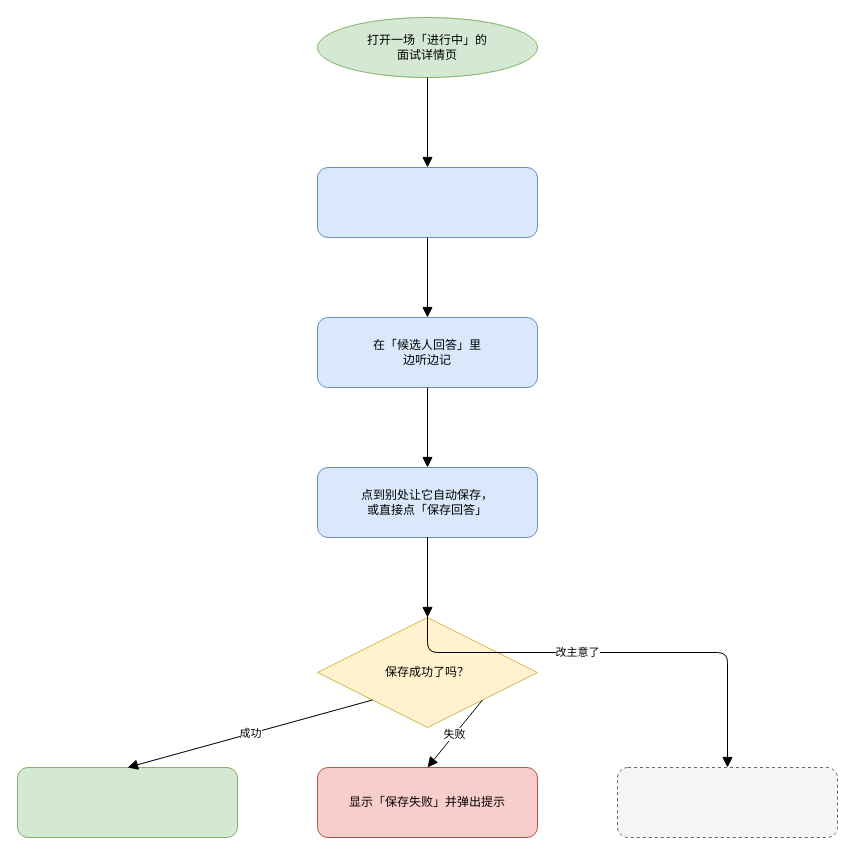
The diagram is 855 pixels wide and 855 high, and some of its shapes have lost their labels. The shapes that lost their labels are listed below. From the top down, each one's box as (x1, y1, x2, y2) in pixels, then its label:
(316, 166, 538, 238): 在左侧「题目」里点一道题 （默认停在第一道没答的）
(16, 766, 238, 838): 右上角显示「已保存」， 左侧这道题标成「已答」
(616, 766, 838, 838): 想抹掉这题的记录： 点「清空」→ 确认「清空这道题的回答？」 → 立即存为空
